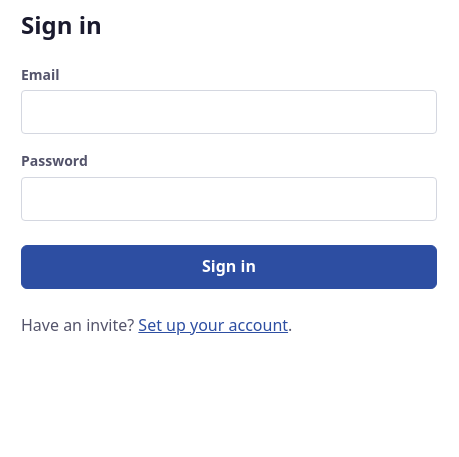
LoginPage › shows an error on bad credentials (no cookie set)
The image size is (459, 457).
Type "student@example.com" into the field labelled "Email" at (229, 112), box [21,90,437,134]
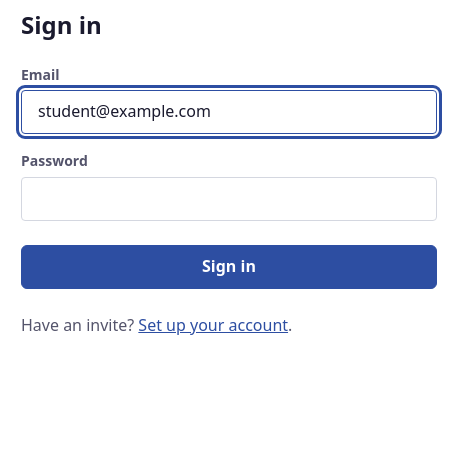
Type "wrong-password" into the password field labelled "Password" at (229, 199), box [21,177,437,221]
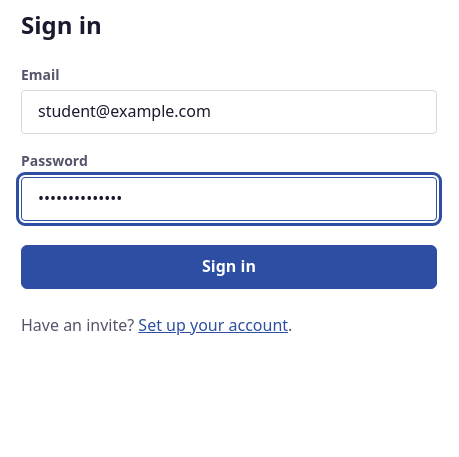
Click the button "Sign in" at (229, 267), box [21,245,437,289]
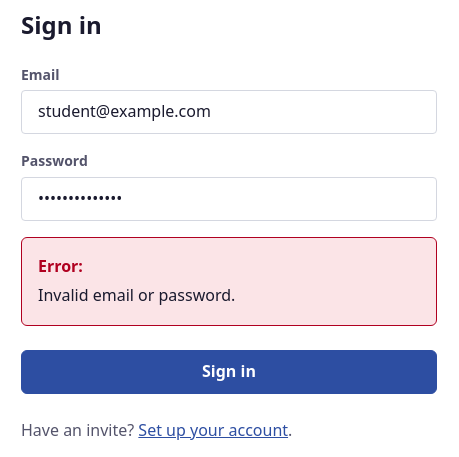
expect the message shows "Invalid email or password": met, box [38,284,235,306]
